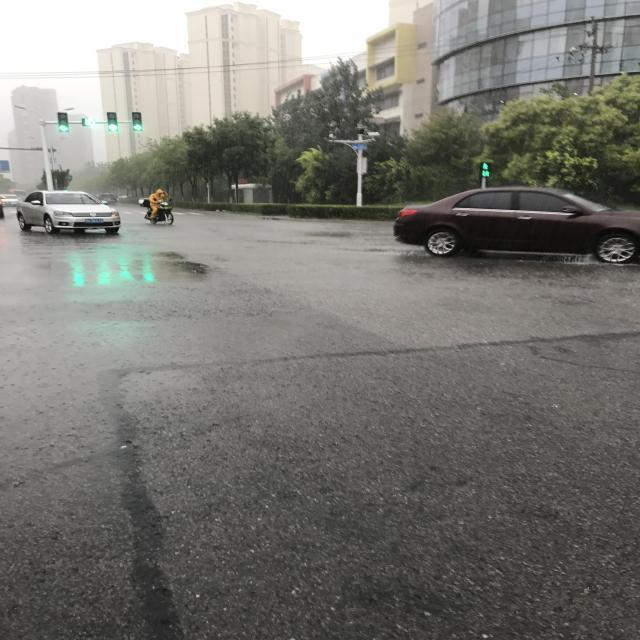car: (186, 0, 266, 248), (191, 518, 237, 623)
